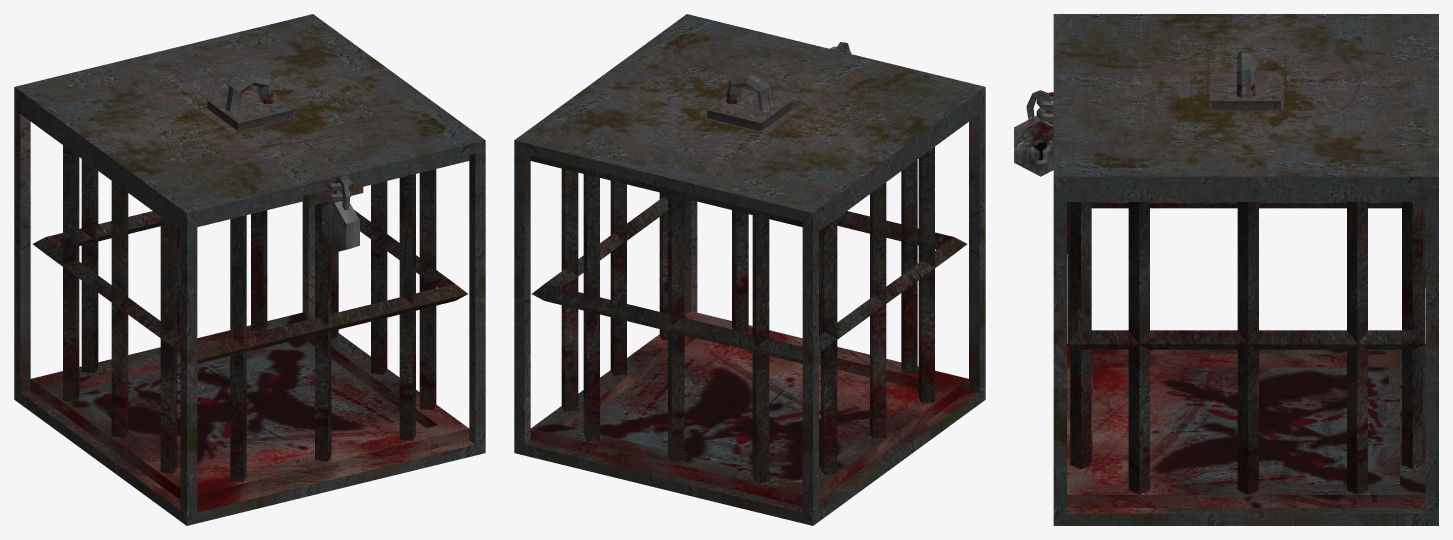
Rendered from HangingCage.fbx.
3 views of the same model, side by side, from view 1: azimuth 30°, elevation 25°; view 2: azimuth 150°, elevation 25°; view 3: azimuth 270°, elevation 25° (orthographic). The views are drawn at different scales.
Parts seen in each view (by area): view 1: HangingCage:Mesh; view 2: HangingCage:Mesh; view 3: HangingCage:Mesh.
Boxes of the visible parts, bbox=[...] form: HangingCage:Mesh: bbox=[14, 14, 485, 525]; HangingCage:Mesh: bbox=[514, 14, 985, 525]; HangingCage:Mesh: bbox=[1014, 14, 1438, 525].
Bounding box in the file's own units: 1.45 × 1.63 × 1.6.
